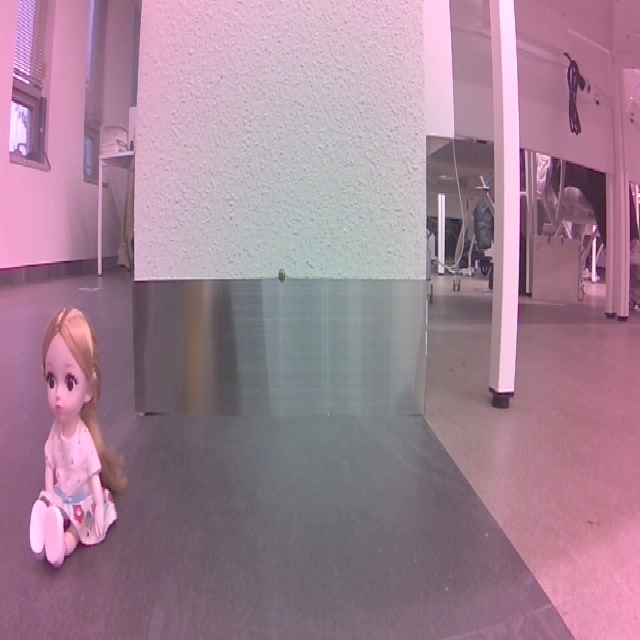장애물: (14, 305, 130, 570)
